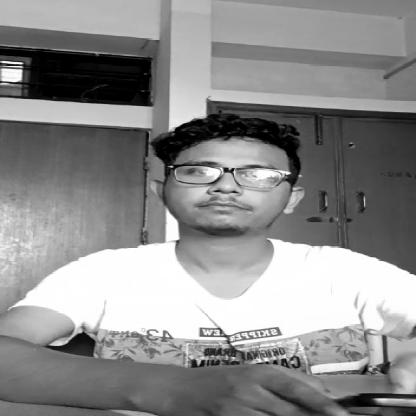Normal: (154, 109, 323, 231)
